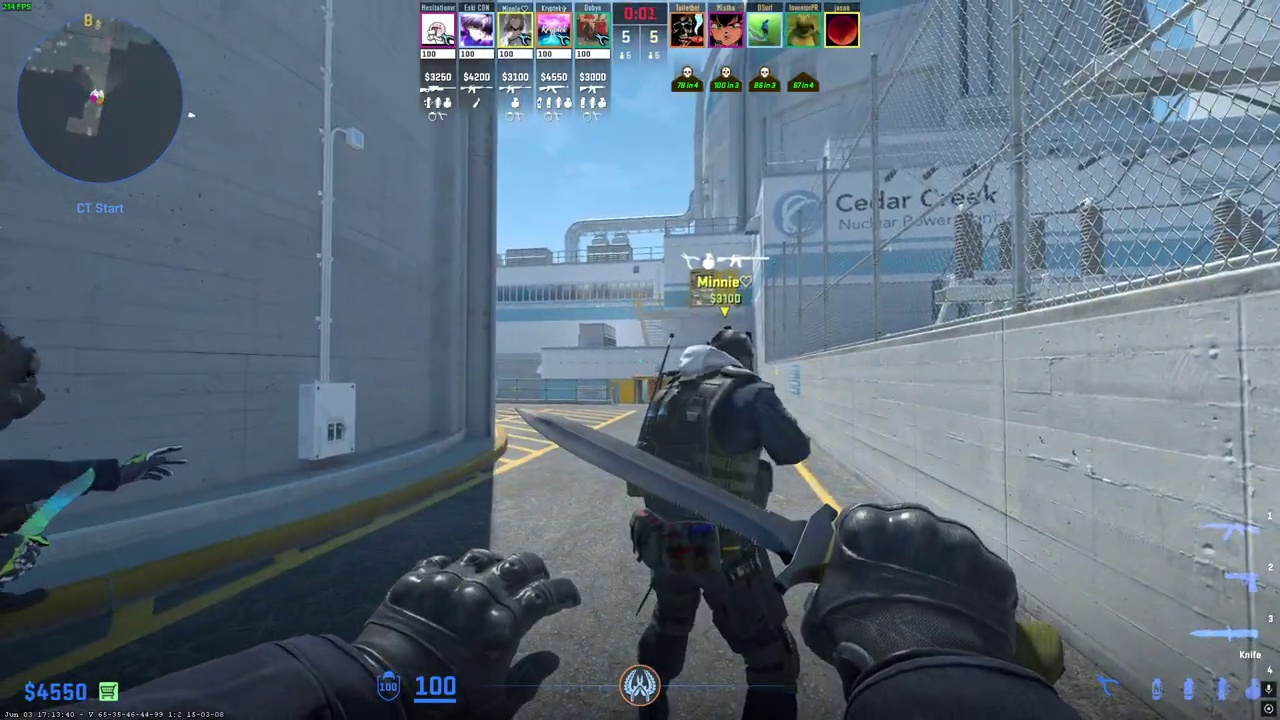CT: (625, 326, 805, 720), (0, 316, 46, 655)
